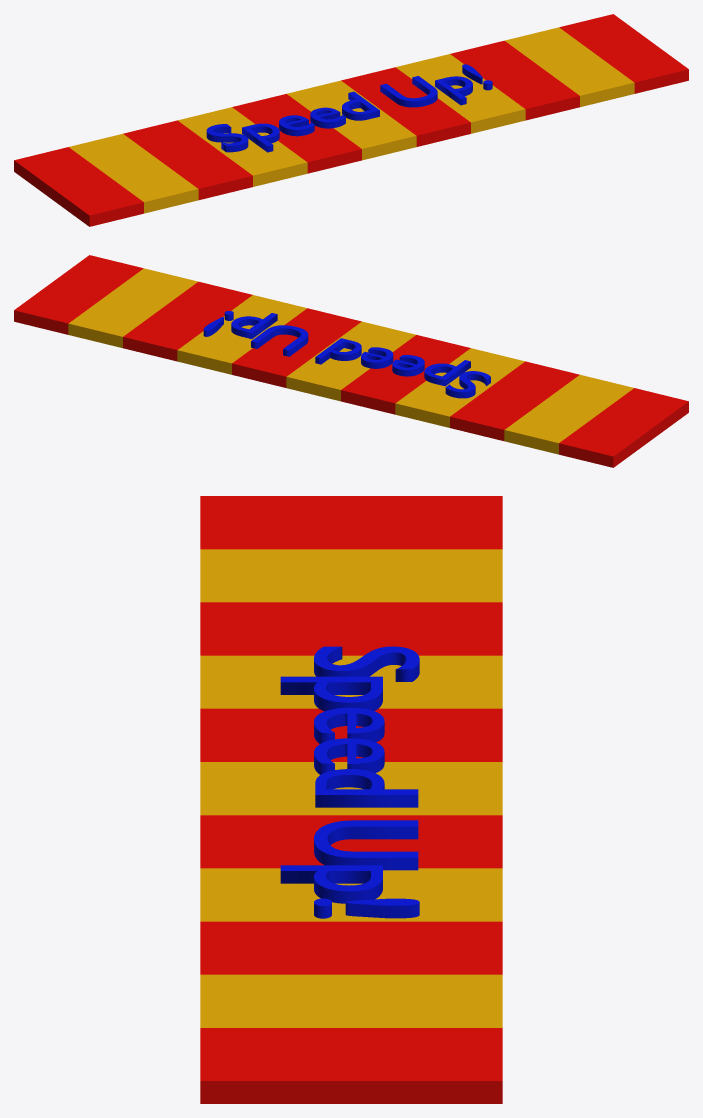
The model's file is speedup.fbx.
3 views of the same model, one above another, from view 1: azimuth 30°, elevation 25°; view 2: azimuth 150°, elevation 25°; view 3: azimuth 270°, elevation 25° (orthographic). The views are drawn at different scales.
Visible parts, largest first — view 1: Cube; view 2: Cube; view 3: Cube.
Boxes of the visible parts, left/top/right/bottom form: Cube: left=14, top=14, right=688, bottom=226; Cube: left=14, top=255, right=688, bottom=467; Cube: left=200, top=496, right=502, bottom=1103.
Size of the model in its own units: 917 by 25.84 by 200.
